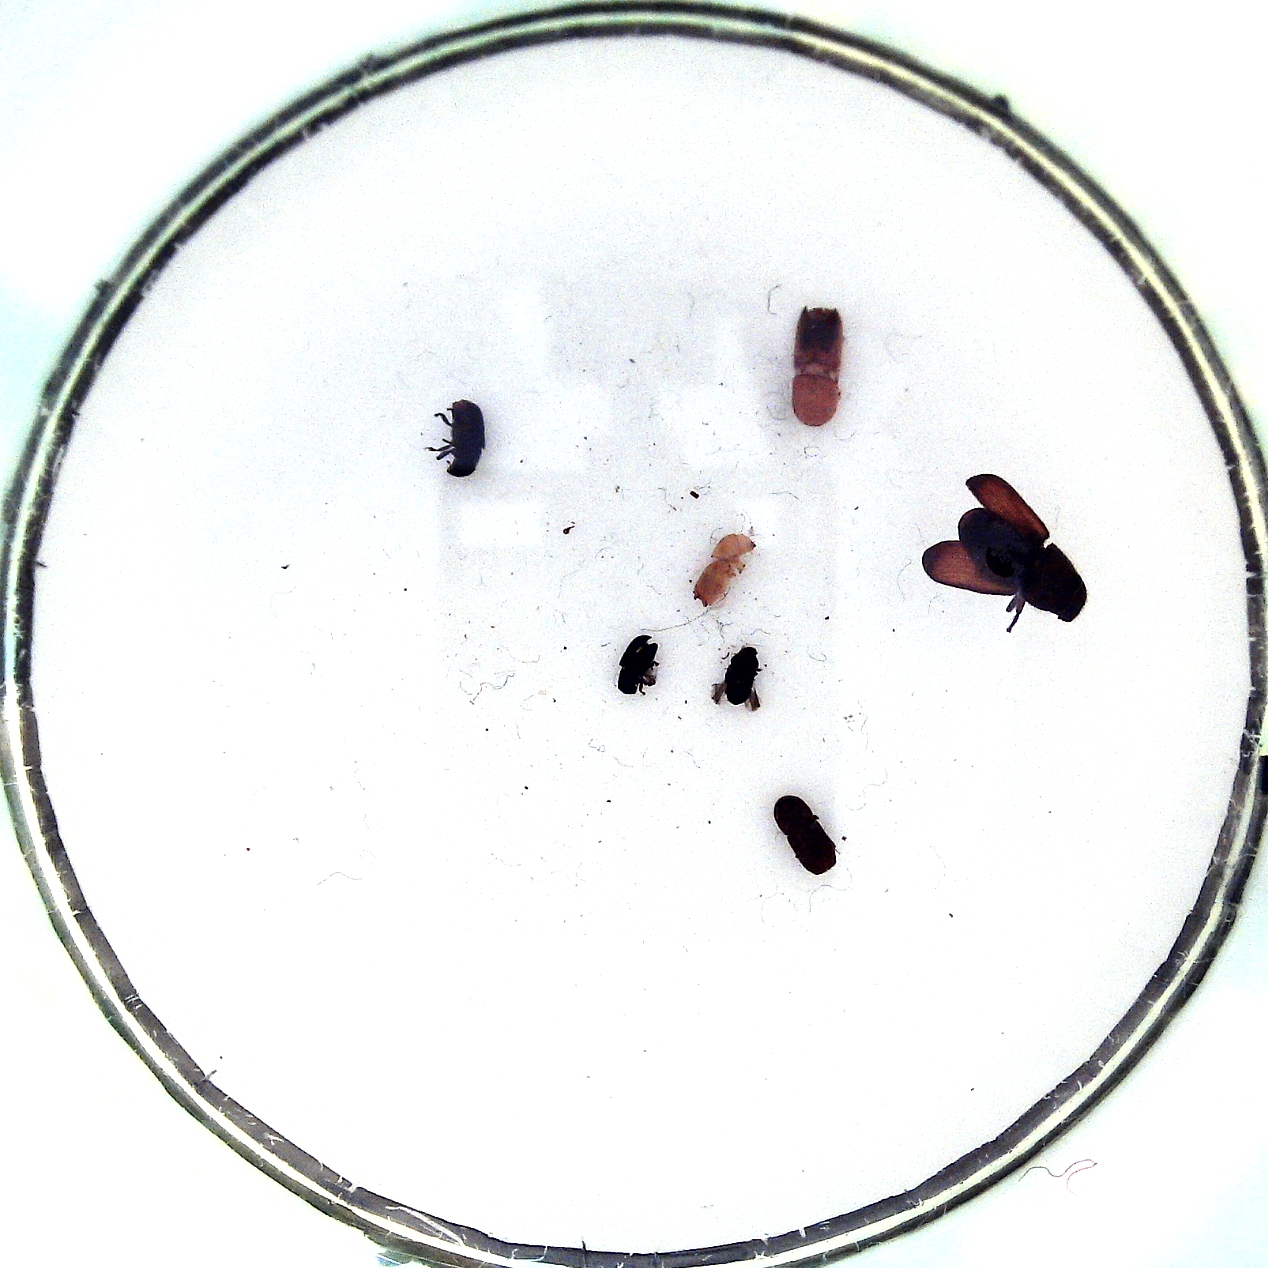Boerner: (791, 304, 844, 426)
Leconte: (958, 507, 1089, 624)
acuminatus: (725, 644, 761, 706)
armandi: (447, 399, 487, 475)
coleoptera: (619, 635, 660, 696)
linnaeus: (775, 794, 836, 876), (692, 533, 756, 606)
